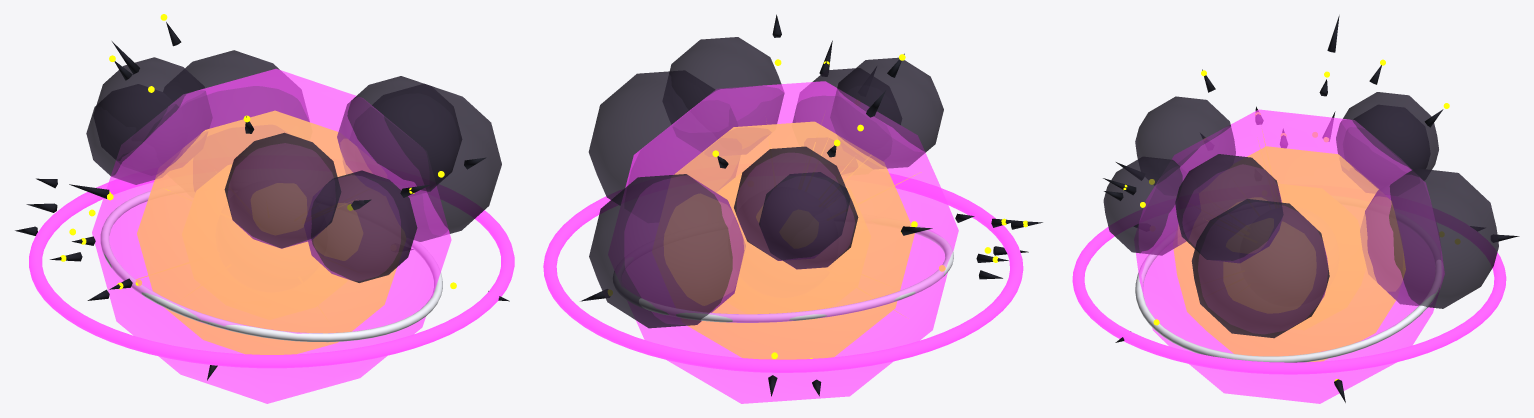
The model's file is Grenade_Explosion.fbx.
3 views of the same model, side by side, from view 1: azimuth 30°, elevation 25°; view 2: azimuth 150°, elevation 25°; view 3: azimuth 270°, elevation 25° (orthographic). The views are drawn at different scales.
Parts seen in each view (by area): view 1: Grenade_Explosion_Pro_Fireball2, Grenade_Explosion_Pro_Smoke, Grenade_Explosion_Pro_Fireball1, Grenade_Explosion_Pro_Glow_pink_12, Grenade_Explosion_Pro_Fireball0, Grenade_Explosion_Pro_Glow_white_14, Grenade_Explosion_Pro_Plastic_Dark, Grenade_Explosion_Pro_Glow_orange_16; view 2: Grenade_Explosion_Pro_Fireball2, Grenade_Explosion_Pro_Smoke, Grenade_Explosion_Pro_Fireball1, Grenade_Explosion_Pro_Glow_pink_12, Grenade_Explosion_Pro_Fireball0, Grenade_Explosion_Pro_Glow_white_14, Grenade_Explosion_Pro_Plastic_Dark, Grenade_Explosion_Pro_Glow_orange_16; view 3: Grenade_Explosion_Pro_Fireball2, Grenade_Explosion_Pro_Smoke, Grenade_Explosion_Pro_Fireball1, Grenade_Explosion_Pro_Glow_pink_12, Grenade_Explosion_Pro_Fireball0, Grenade_Explosion_Pro_Glow_white_14, Grenade_Explosion_Pro_Plastic_Dark.
Part boxes in pixels (x1,y1,x2,y2): Grenade_Explosion_Pro_Fireball2: (92,68,451,403); Grenade_Explosion_Pro_Smoke: (86,50,501,282); Grenade_Explosion_Pro_Fireball1: (137,110,396,354); Grenade_Explosion_Pro_Glow_pink_12: (29,179,514,368); Grenade_Explosion_Pro_Fireball0: (182,165,346,319); Grenade_Explosion_Pro_Glow_white_14: (100,191,442,342); Grenade_Explosion_Pro_Plastic_Dark: (15,22,509,380); Grenade_Explosion_Pro_Glow_orange_16: (60,14,456,289); Grenade_Explosion_Pro_Fireball2: (624,81,958,403); Grenade_Explosion_Pro_Smoke: (588,37,943,328); Grenade_Explosion_Pro_Fireball1: (664,121,914,359); Grenade_Explosion_Pro_Glow_pink_12: (543,173,1023,372); Grenade_Explosion_Pro_Fireball0: (717,173,870,313); Grenade_Explosion_Pro_Glow_white_14: (613,223,953,322); Grenade_Explosion_Pro_Plastic_Dark: (580,14,1042,396); Grenade_Explosion_Pro_Glow_orange_16: (608,54,1027,358); Grenade_Explosion_Pro_Fireball2: (1136,109,1444,403); Grenade_Explosion_Pro_Smoke: (1103,92,1498,338); Grenade_Explosion_Pro_Fireball1: (1173,146,1405,362); Grenade_Explosion_Pro_Glow_pink_12: (1072,208,1506,374); Grenade_Explosion_Pro_Fireball0: (1278,184,1365,329); Grenade_Explosion_Pro_Glow_white_14: (1135,254,1441,362); Grenade_Explosion_Pro_Plastic_Dark: (1103,15,1519,402).
Size of the model in its own units: 0.8953 by 0.701 by 0.89.
